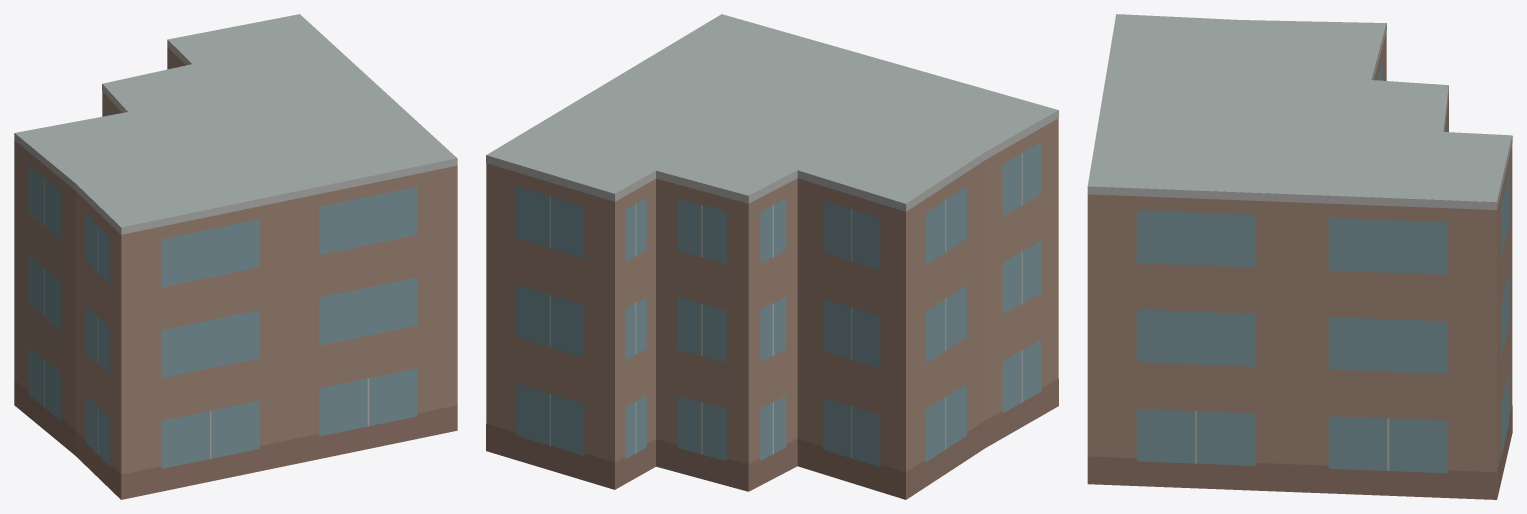
File: survey-upis-32676490.glb
The picture shows the model from 3 angles, left to right: view 1: azimuth 30°, elevation 25°; view 2: azimuth 150°, elevation 25°; view 3: azimuth 270°, elevation 25°; orthographic projection. The views are drawn at different scales.
Parts seen in each view (by area): view 1: survey-upis-32676490.tmp; view 2: survey-upis-32676490.tmp; view 3: survey-upis-32676490.tmp.
Part boxes in pixels (x1,y1,x2,y2): survey-upis-32676490.tmp: [14, 14, 457, 499]; survey-upis-32676490.tmp: [486, 14, 1058, 499]; survey-upis-32676490.tmp: [1087, 14, 1512, 499].
Size of the model in its own units: 12.42 by 9.15 by 11.84.
